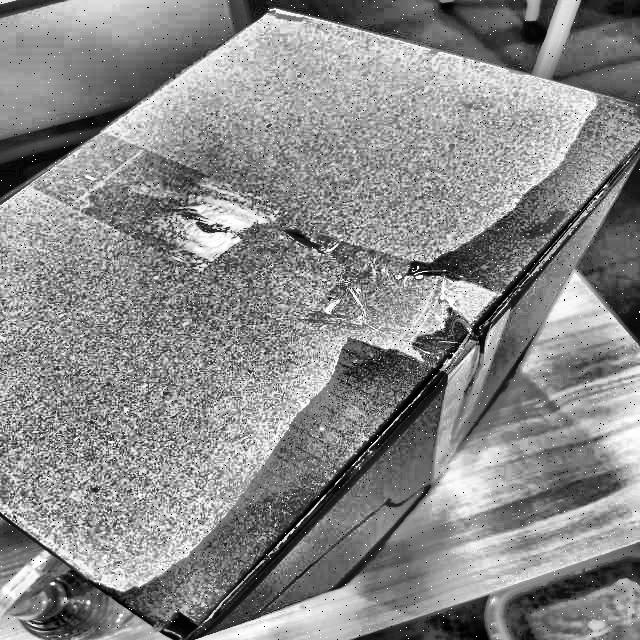box: (0, 0, 640, 640)
wet: (103, 341, 428, 631), (411, 94, 639, 297)
